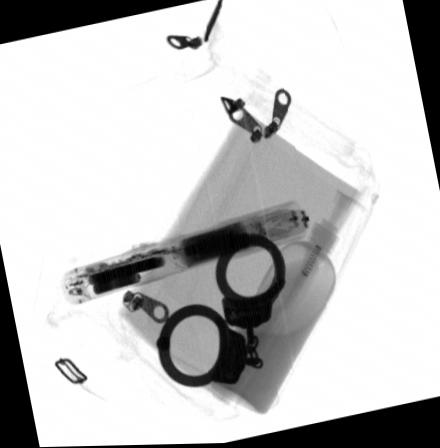Baton: (59, 198, 312, 305)
HandCuffs: (152, 233, 288, 388)
